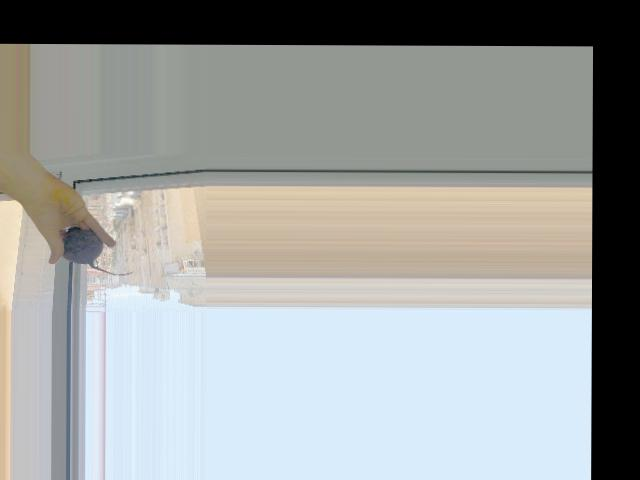beet: (63, 226, 135, 275)
